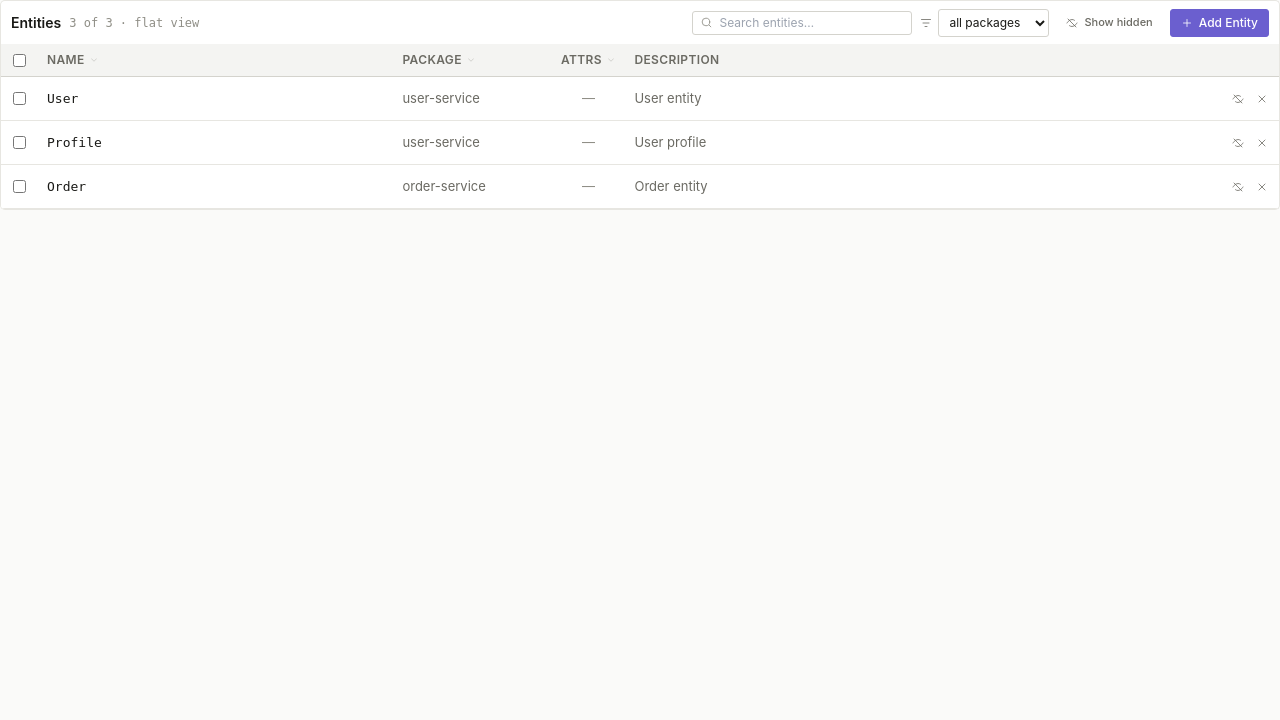
EntityFlatTable › saves a description change via the side panel
Check: the text "User entity" is shown, box [634,90,702,106]
Click the text "User": x=63, y=99 [47,89,78,108]
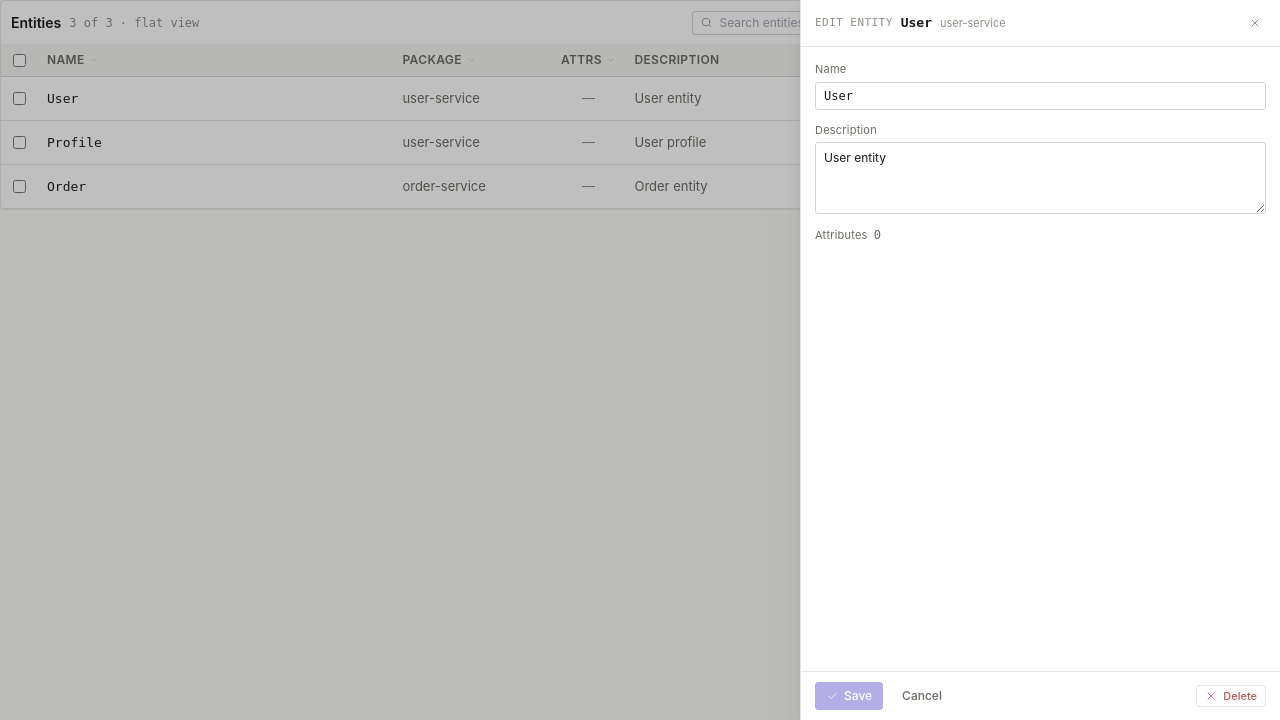
Replace the text in the text box labelled "Description" with "Updated description": x=1040, y=178 [815,142,1266,214]
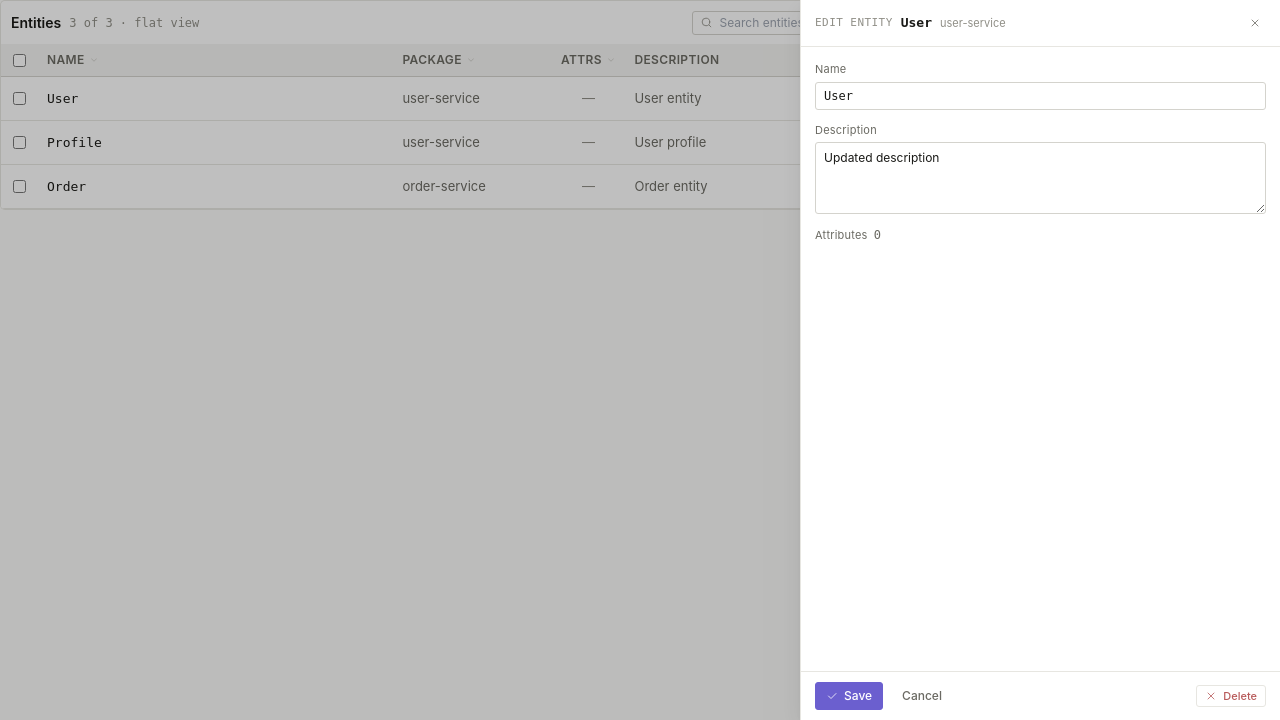
Click the button "Save": x=849, y=696 [815,682,883,710]
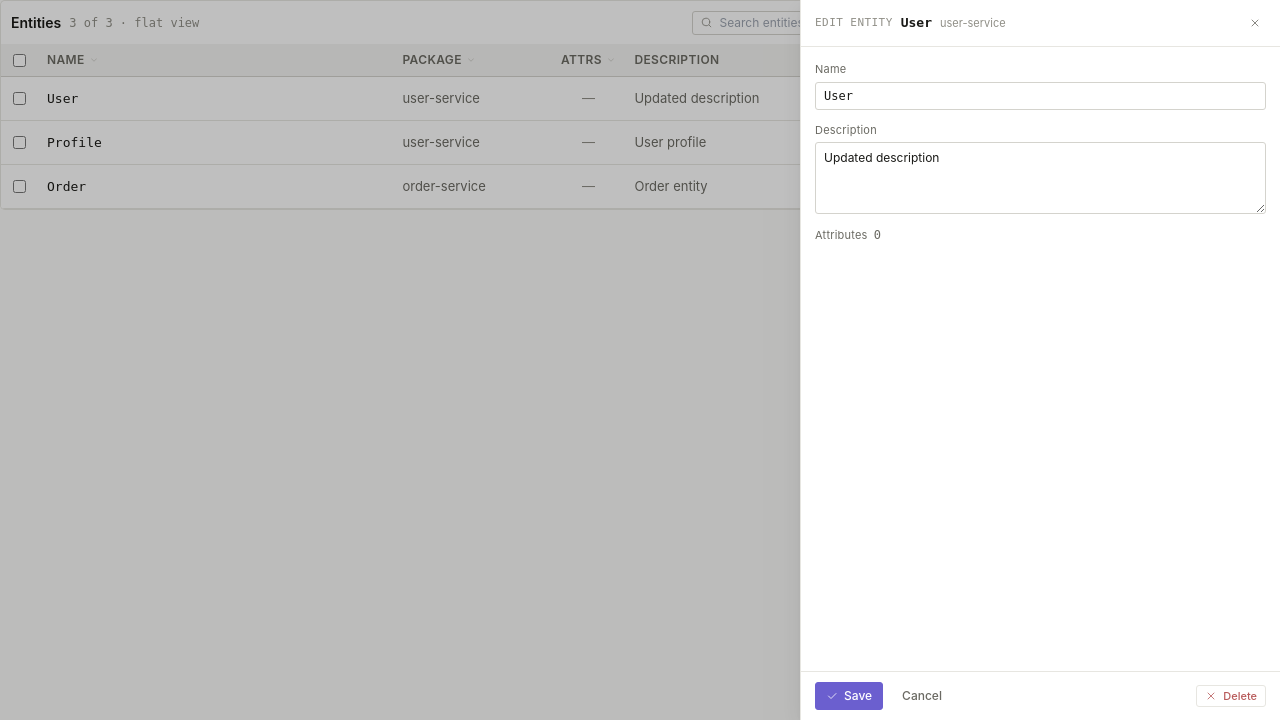
Check: the text "User entity" reads "Updated description", box [634,90,760,106]
